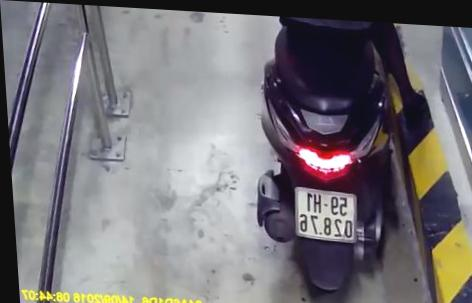License_Plate: (288, 185, 362, 244)
